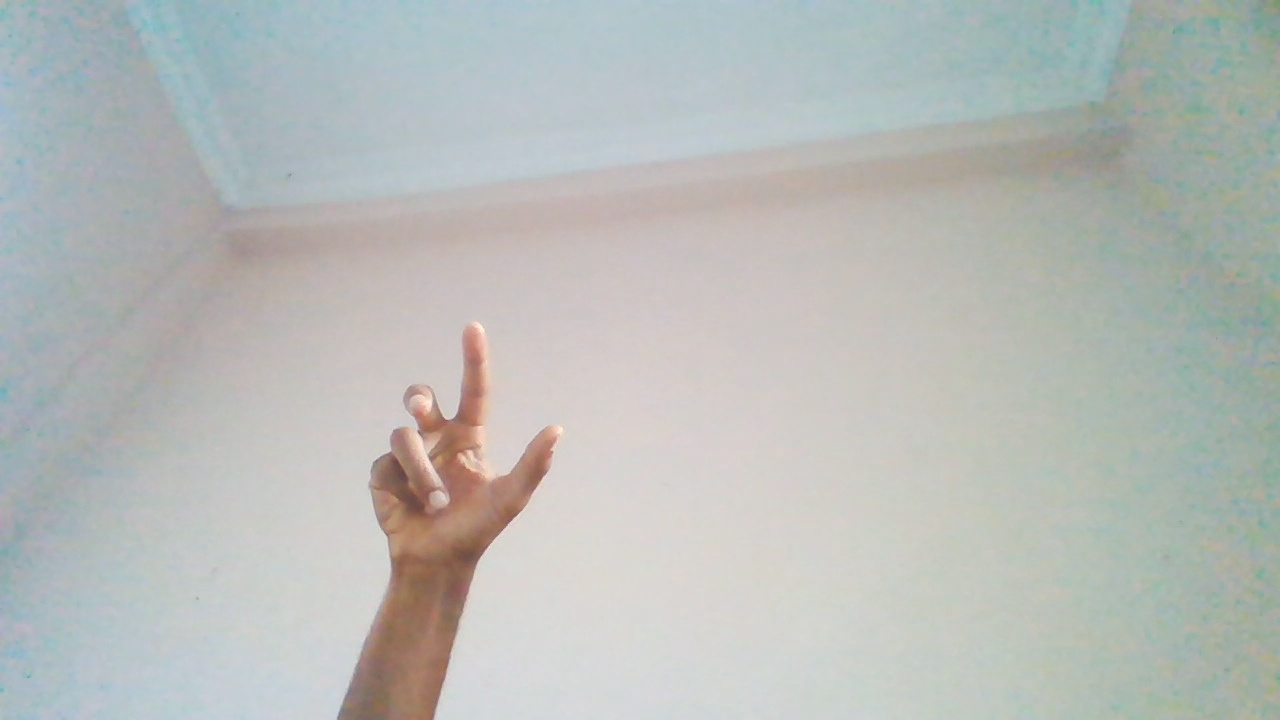hhe: (364, 321, 567, 672)
